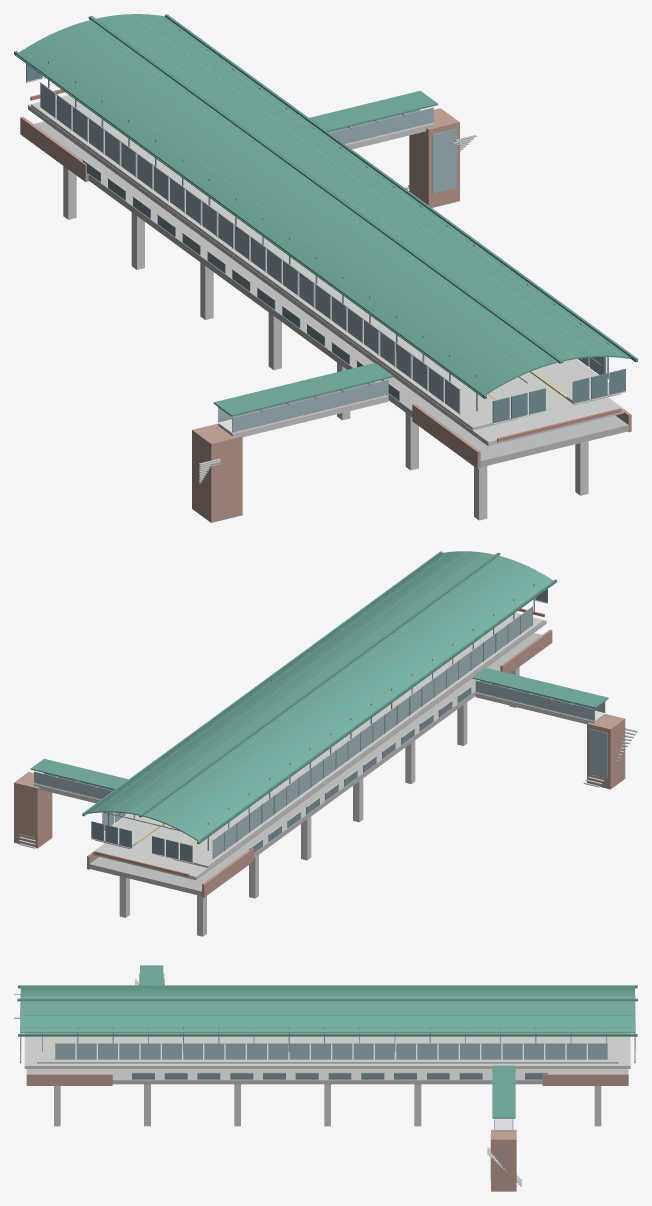
3 renders of one model, top to bottom at view 1: azimuth 30°, elevation 25°; view 2: azimuth 150°, elevation 25°; view 3: azimuth 270°, elevation 25°, orthographic. The views are drawn at different scales.
Visible parts, largest first — view 1: MRT6 station 11 concept geometry; view 2: MRT6 station 11 concept geometry; view 3: MRT6 station 11 concept geometry.
Part boxes in pixels (x1,y1,x2,y2): MRT6 station 11 concept geometry: (14, 14, 637, 522); MRT6 station 11 concept geometry: (14, 551, 637, 936); MRT6 station 11 concept geometry: (14, 965, 637, 1191).
Size of the model in its own units: 101 by 29.49 by 152.
